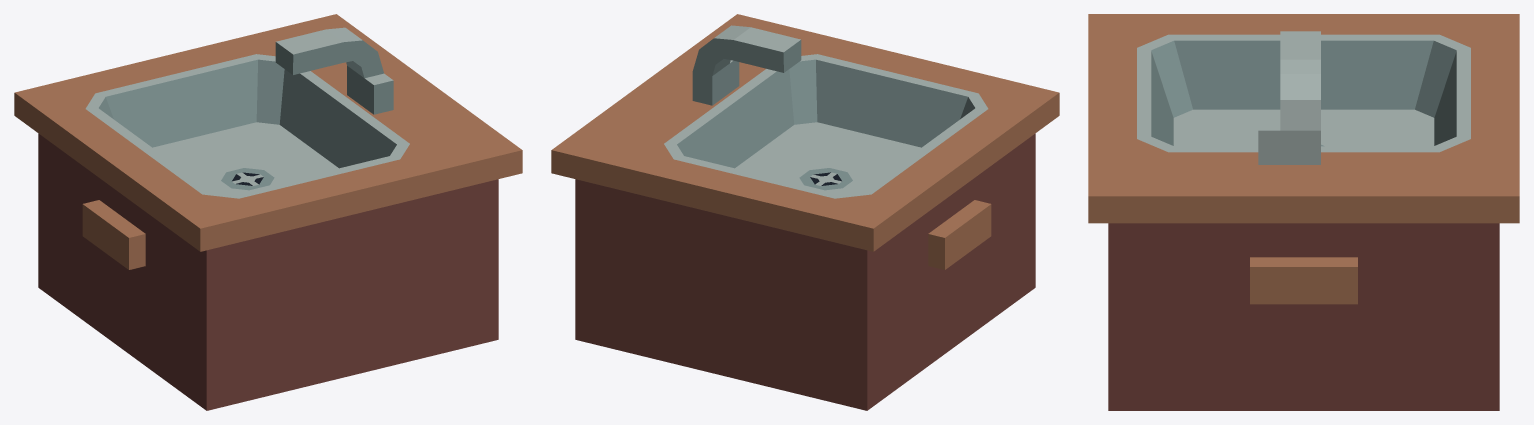
File: Counter02.fbx
3 renders of one model, left to right at view 1: azimuth 30°, elevation 25°; view 2: azimuth 150°, elevation 25°; view 3: azimuth 270°, elevation 25°, orthographic. The views are drawn at different scales.
Visible parts, largest first — view 1: Counter02; view 2: Counter02; view 3: Counter02.
Part boxes in pixels (bbox=[...]): Counter02: bbox=[14, 14, 522, 410]; Counter02: bbox=[551, 14, 1059, 410]; Counter02: bbox=[1088, 14, 1519, 410].
Size of the model in its own units: 2.02 by 2 by 1.56.
